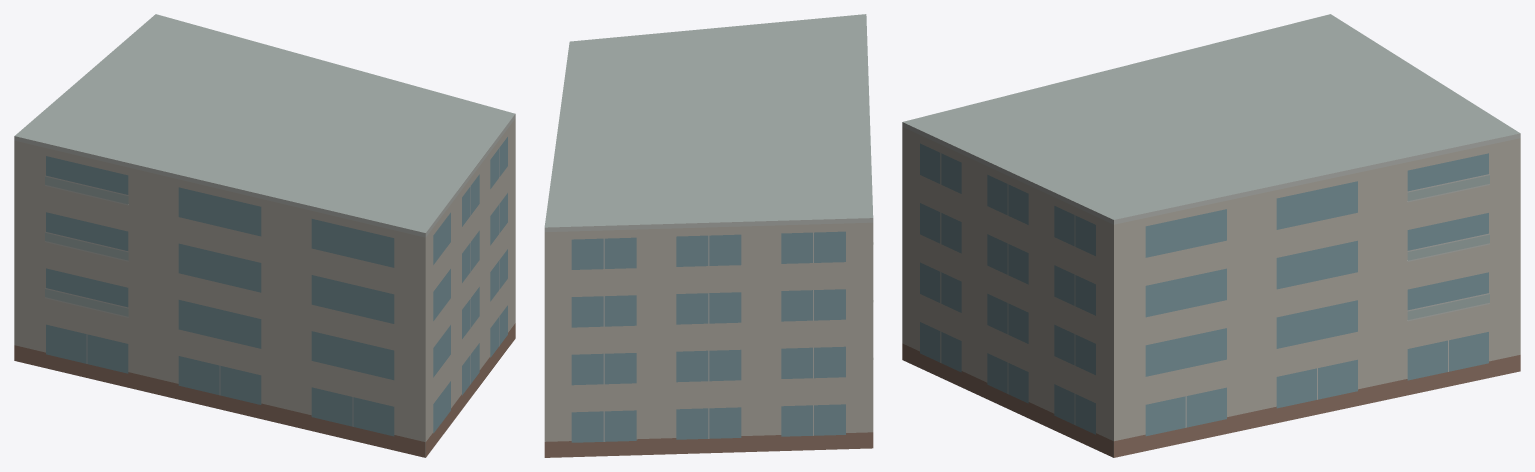
The model's file is residential-ed13b9e5-a989-43aa-991d-3ca3de8808b4.glb.
The picture shows the model from 3 angles, left to right: view 1: azimuth 30°, elevation 25°; view 2: azimuth 150°, elevation 25°; view 3: azimuth 270°, elevation 25°; orthographic projection. The views are drawn at different scales.
Visible parts, largest first — view 1: residential-ed13b9e5-a989-43aa-991d-3ca3de8808b4.tmp; view 2: residential-ed13b9e5-a989-43aa-991d-3ca3de8808b4.tmp; view 3: residential-ed13b9e5-a989-43aa-991d-3ca3de8808b4.tmp.
Boxes of the visible parts, x1,y1,x2,y2 form: residential-ed13b9e5-a989-43aa-991d-3ca3de8808b4.tmp: (14, 14, 515, 457); residential-ed13b9e5-a989-43aa-991d-3ca3de8808b4.tmp: (544, 14, 873, 457); residential-ed13b9e5-a989-43aa-991d-3ca3de8808b4.tmp: (902, 14, 1520, 457).
Bounding box in the file's own units: 22.66 × 12.2 × 28.74.
